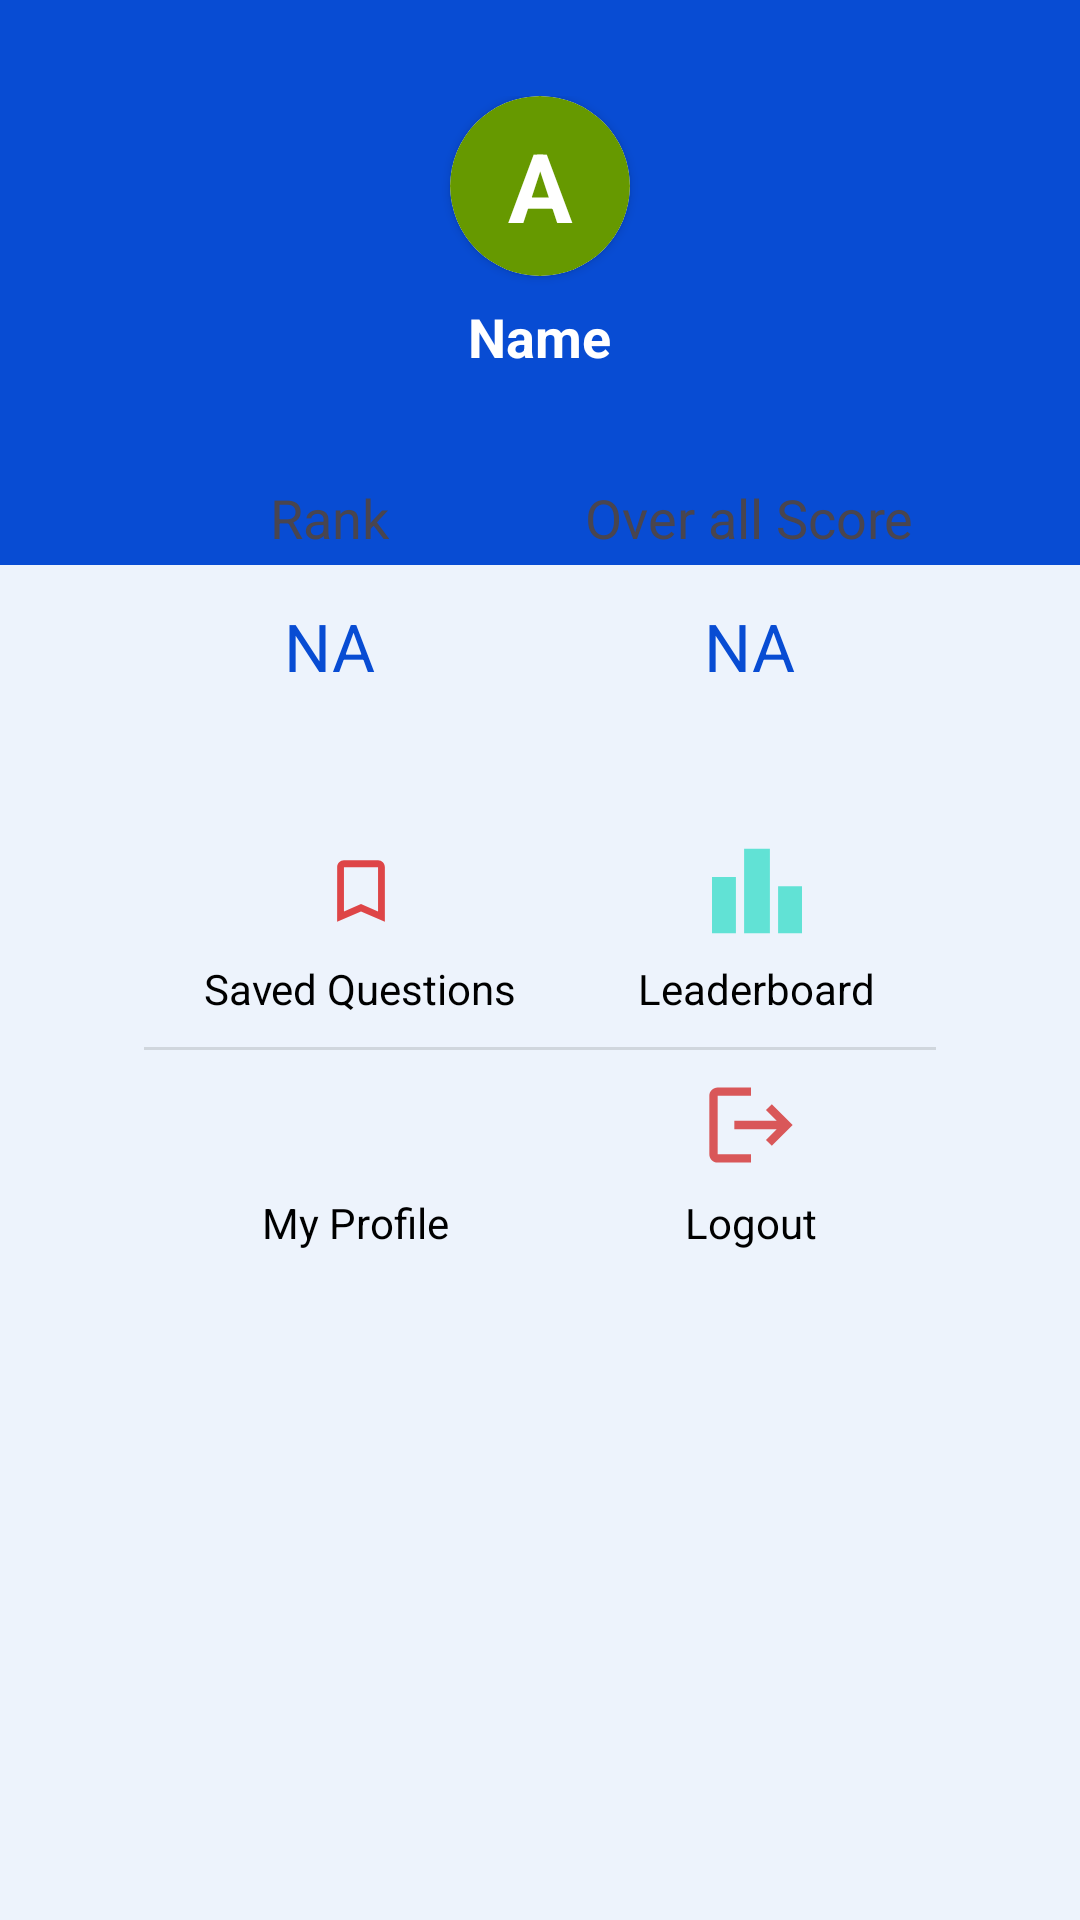

Screen size 1080*1920. Icon name, then its box in pixels as (x1, y1, x2, y2):
bookmark: (337, 860, 385, 922)
